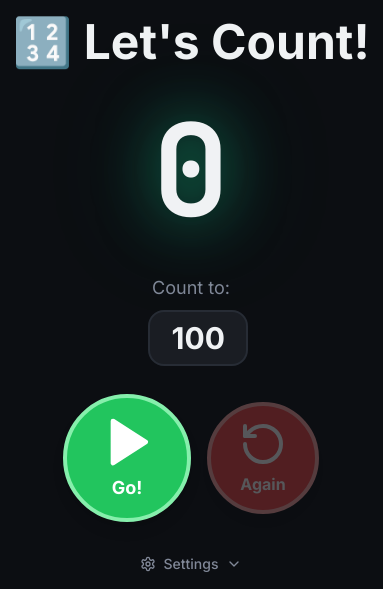
Scenario: Counter › resets count and hides Done after Again
Type "2" into the field with placeholder "100" at [198, 338], box [148,310,248,366]
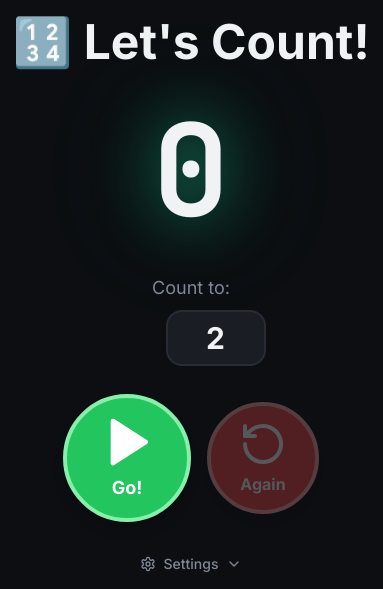
Click the button "Go!" at [127, 458], box [63,394,191,522]
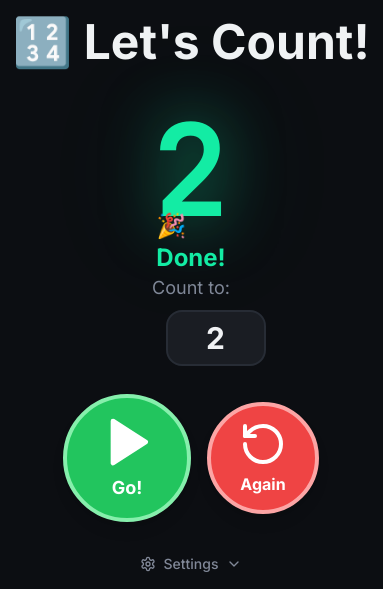
Expected: the text "🎉 Done!" is shown, [156,210,226,274]
Click the button "Again" at [263, 458], box [207,402,319,514]
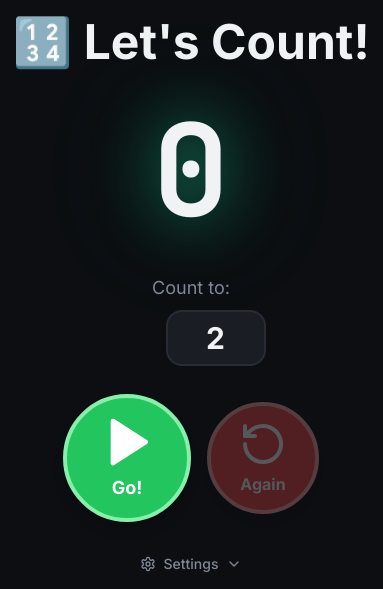
Expected: the text with class "counter-display" reads "0", [153,85,229,254]
Expected: the text "Done!" is gone
